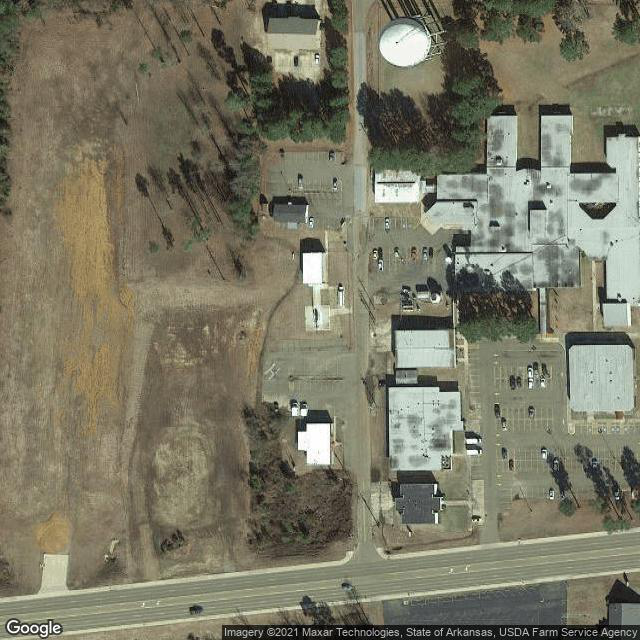Helipad: (301, 302, 334, 332), (260, 358, 284, 385)
